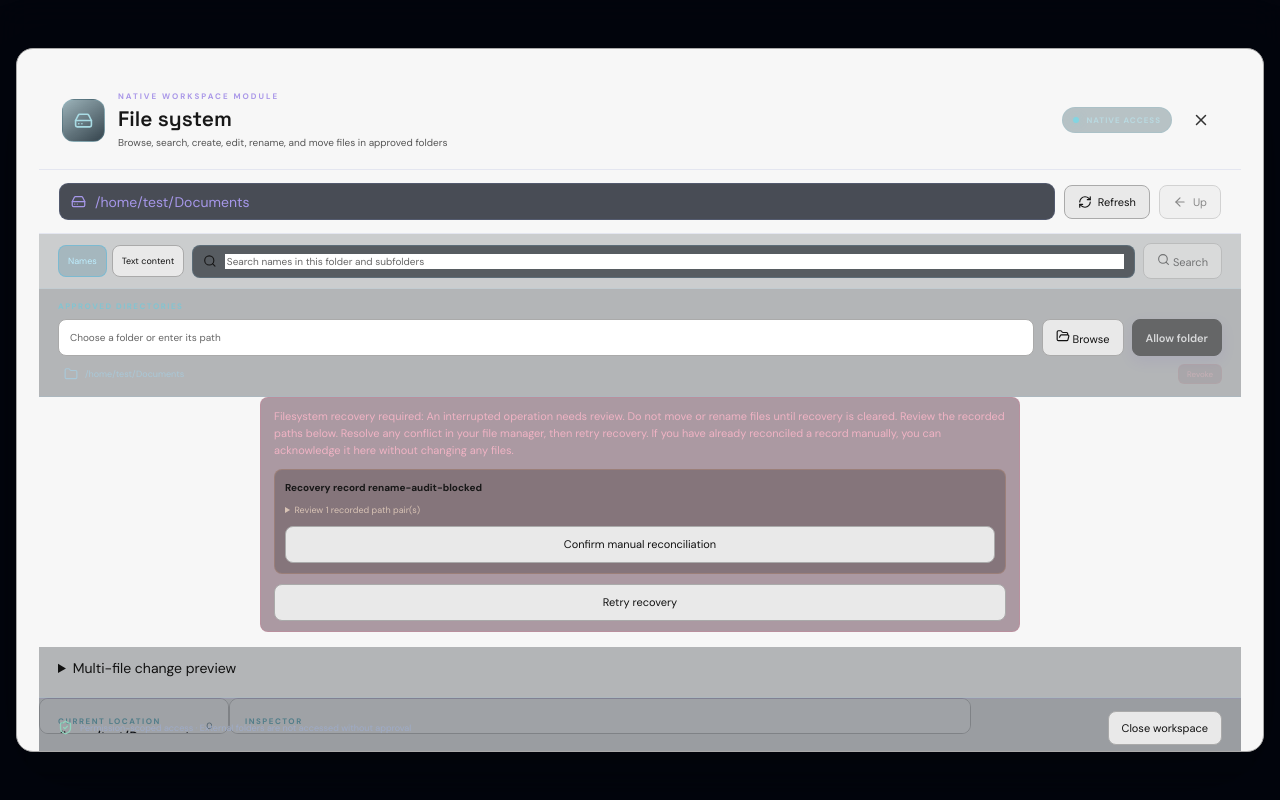
Test: FileSystemPanel native workspace access › keeps a recovery journal intact when the manual-reconciliation audit cannot be written
This screenshot has width=1280, height=800.
Click the button "Confirm manual reconciliation". click: (640, 544)
box: [285, 526, 995, 563]
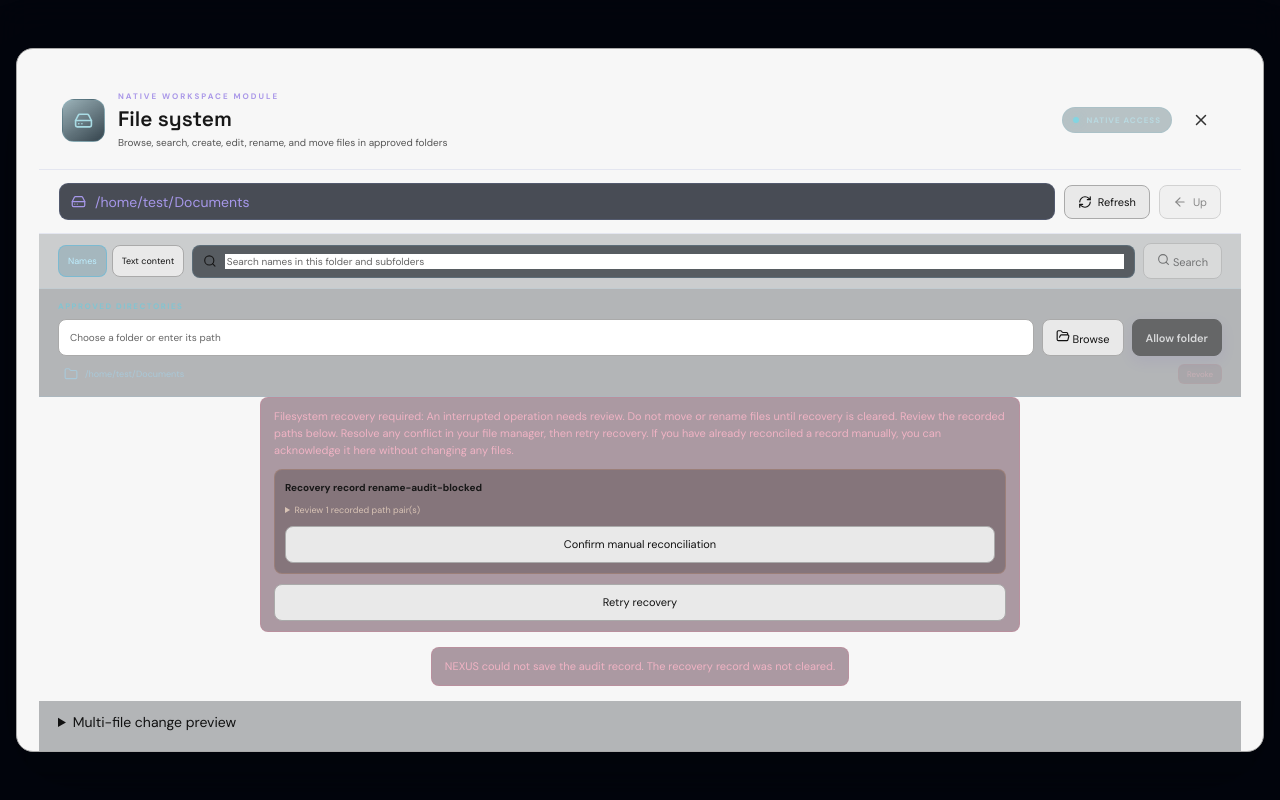
Expected: the text "Filesystem recovery required" is shown, [274, 409, 426, 423]
Expected: the text "audit record" is shown, [445, 659, 835, 673]
